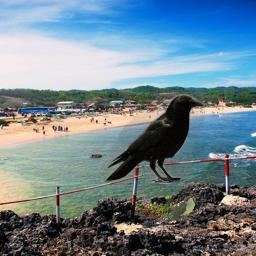Crow: (102, 92, 205, 186)
Cuckoo: (155, 196, 195, 224)
